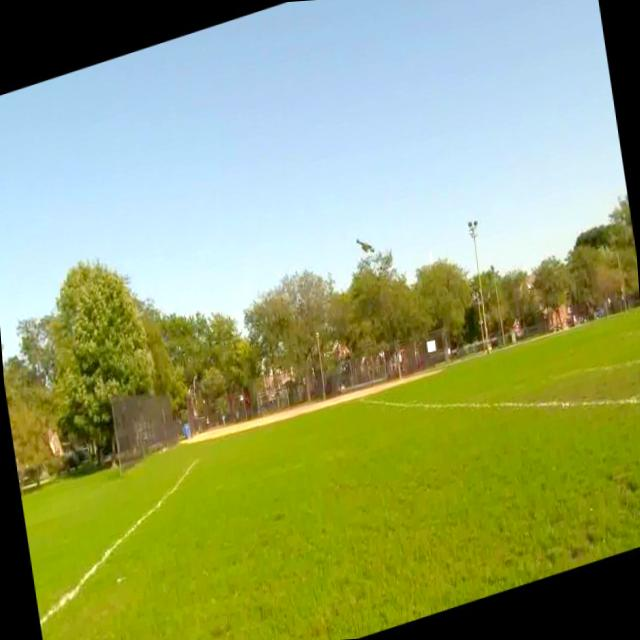drone: (350, 222, 377, 260)
